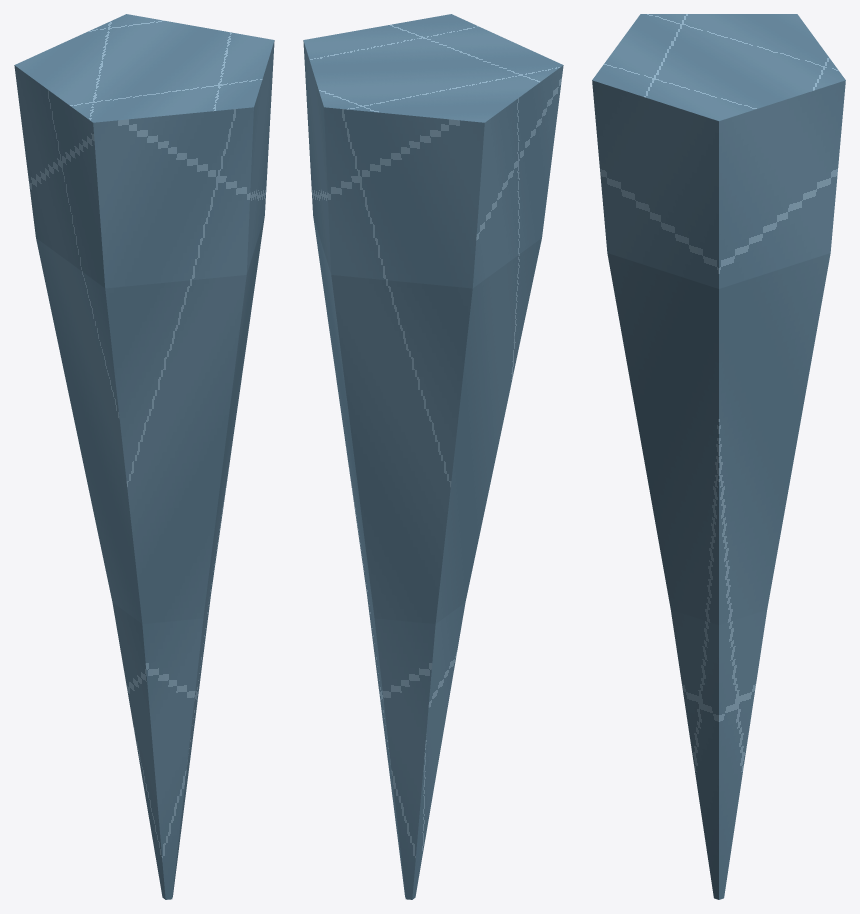
File: icicle_medium.glb
3 renders of one model, left to right at view 1: azimuth 30°, elevation 25°; view 2: azimuth 150°, elevation 25°; view 3: azimuth 270°, elevation 25°, orthographic.
Parts seen in each view (by area): view 1: icicle_medium; view 2: icicle_medium; view 3: icicle_medium.
Boxes of the visible parts, x1,y1,x2,y2 form: icicle_medium: (14, 14, 274, 899); icicle_medium: (303, 14, 563, 899); icicle_medium: (592, 14, 845, 899).
Size of the model in its own units: 0.1 by 0.36 by 0.1.
Materials: 1 (1 with a texture image).
